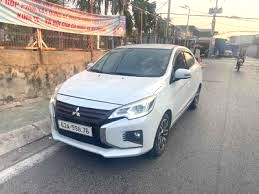Bien-so: (59, 119, 94, 139)
